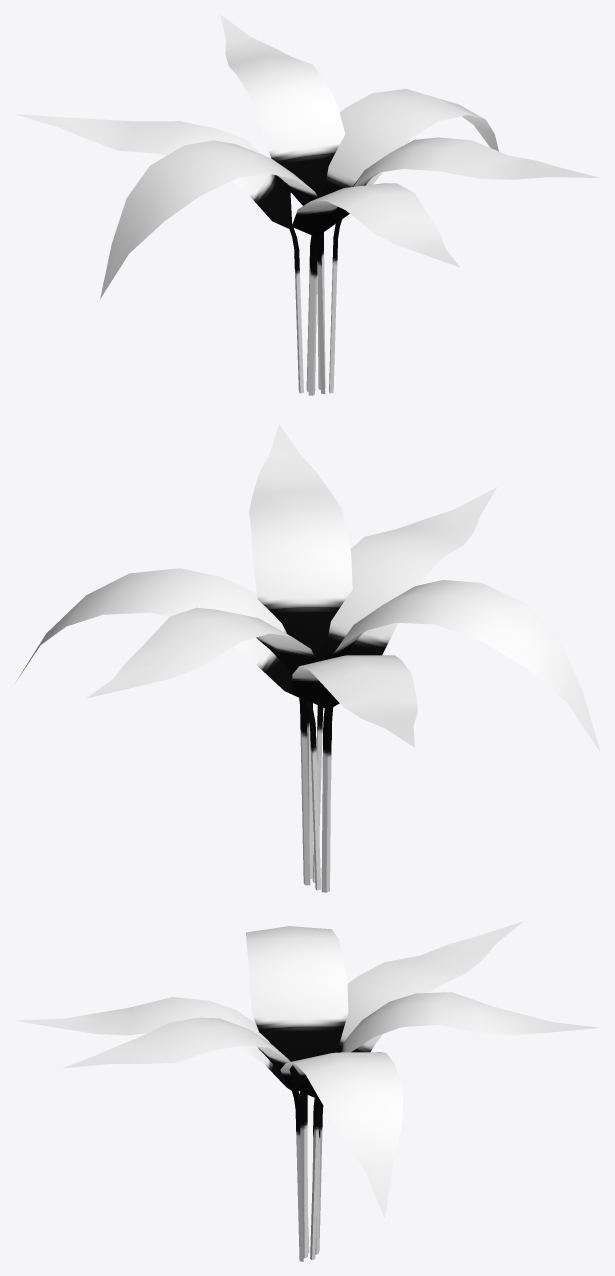
The model's file is grass3.FBX.
The picture shows the model from 3 angles, top to bottom: view 1: azimuth 30°, elevation 25°; view 2: azimuth 150°, elevation 25°; view 3: azimuth 270°, elevation 25°; orthographic projection. The views are drawn at different scales.
Visible parts, largest first — view 1: Object047; view 2: Object047; view 3: Object047.
Boxes of the visible parts, x1=… form: Object047: x1=14, y1=14, x2=599, y2=395; Object047: x1=17, y1=424, x2=600, y2=892; Object047: x1=15, y1=921, x2=600, y2=1261.
Bounding box in the file's own units: 77.51 × 44 × 88.08.
